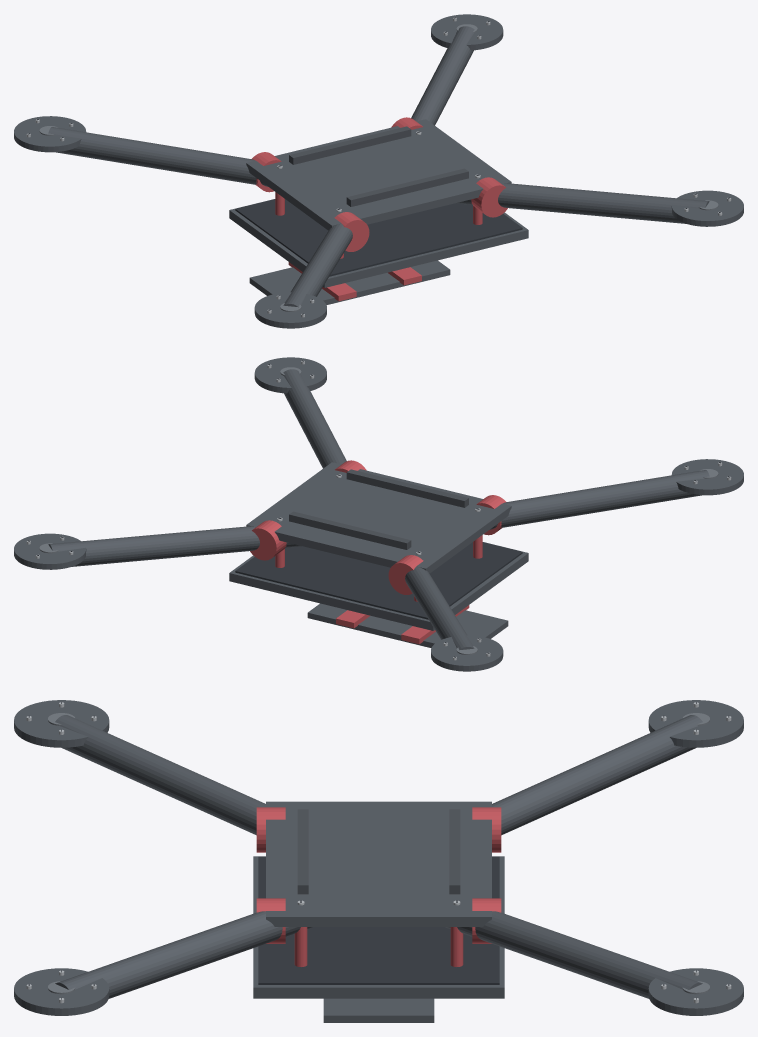
Rendered from frame_450.glb.
3 views of the same model, one above another, from view 1: azimuth 30°, elevation 25°; view 2: azimuth 150°, elevation 25°; view 3: azimuth 270°, elevation 25° (orthographic). The views are drawn at different scales.
Visible parts, largest first — view 1: top_plate, bottom_edge, arm_M4, arm_M2, bottom_plate, battery_tray, arm_M1, arm_M3, motor_plate_M3, motor_plate_M2, motor_plate_M4, motor_plate_M1 (+4 smaller); view 2: top_plate, bottom_edge, arm_M3, arm_M1, bottom_plate, battery_tray, arm_M2, arm_M4, motor_plate_M4, motor_plate_M1, motor_plate_M3, motor_plate_M2 (+4 smaller); view 3: top_plate, bottom_edge, arm_M3, arm_M4, arm_M1, arm_M2, bottom_plate, motor_plate_M1, motor_plate_M2, motor_plate_M3, motor_plate_M4, battery_tray (+6 smaller).
Boxes of the visible parts, bbox=[...] form: top_plate: bbox=[246, 119, 511, 230]; bottom_edge: bbox=[235, 199, 522, 276]; arm_M4: bbox=[48, 127, 268, 186]; arm_M2: bbox=[456, 183, 709, 223]; bottom_plate: bbox=[229, 199, 528, 287]; battery_tray: bbox=[249, 260, 450, 305]; arm_M1: bbox=[411, 26, 474, 125]; arm_M3: bbox=[283, 223, 352, 307]; motor_plate_M3: bbox=[254, 292, 326, 328]; motor_plate_M2: bbox=[671, 190, 743, 226]; motor_plate_M4: bbox=[14, 116, 86, 152]; motor_plate_M1: bbox=[431, 14, 503, 50]; top_plate: bbox=[246, 462, 511, 573]; bottom_edge: bbox=[235, 542, 522, 619]; arm_M3: bbox=[489, 470, 709, 529]; arm_M1: bbox=[48, 526, 301, 566]; bottom_plate: bbox=[229, 542, 528, 630]; battery_tray: bbox=[307, 603, 508, 648]; arm_M2: bbox=[283, 369, 346, 468]; arm_M4: bbox=[405, 566, 474, 650]; motor_plate_M4: bbox=[431, 635, 503, 671]; motor_plate_M1: bbox=[14, 533, 86, 569]; motor_plate_M3: bbox=[671, 459, 743, 495]; motor_plate_M2: bbox=[254, 357, 326, 393]; top_plate: bbox=[266, 801, 491, 926]; bottom_edge: bbox=[258, 856, 499, 984]; arm_M3: bbox=[55, 715, 265, 835]; arm_M4: bbox=[492, 715, 702, 835]; arm_M1: bbox=[445, 911, 702, 998]; arm_M2: bbox=[55, 911, 312, 998]; bottom_plate: bbox=[253, 856, 504, 998]; motor_plate_M1: bbox=[648, 968, 743, 1015]; motor_plate_M2: bbox=[14, 968, 109, 1015]; motor_plate_M3: bbox=[14, 700, 109, 747]; motor_plate_M4: bbox=[648, 700, 743, 747]; battery_tray: bbox=[323, 998, 434, 1022].
Bounding box in the file's own units: 0.366 × 0.0803 × 0.366.
